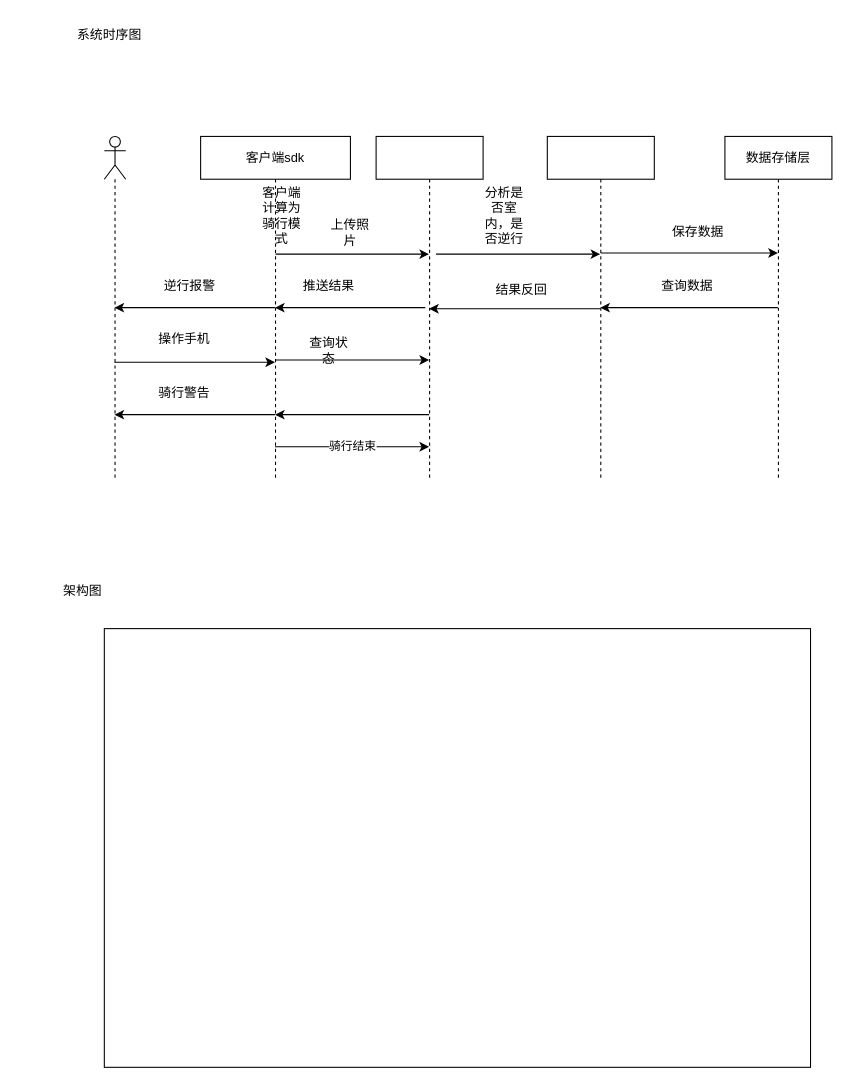
Image size: 851x1086. Some labels were removed from this diagram. Here are the shapes that lost their labels. From the top down, the box of each, then its label:
(375, 135, 483, 479): 接口层
(546, 135, 654, 479): AI
